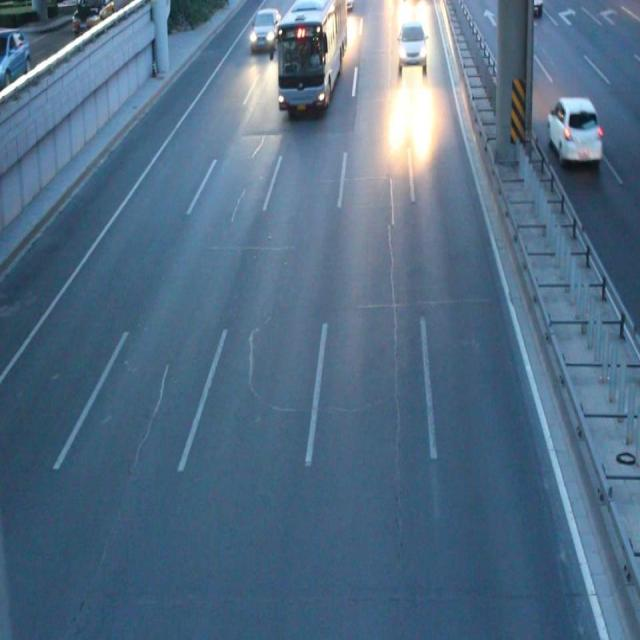car: (544, 97, 602, 164), (250, 11, 278, 52), (399, 27, 426, 68), (523, 1, 540, 18)
van: (277, 2, 347, 118)
